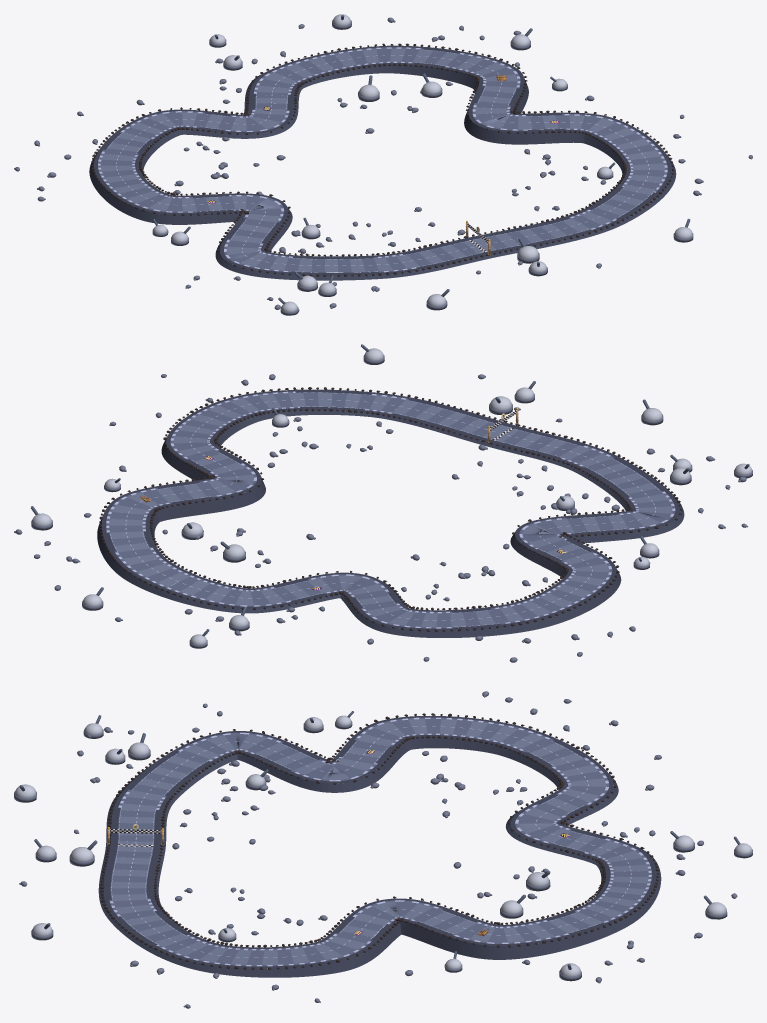
The model's file is carreras_observatorio.glb.
3 renders of one model, top to bottom at view 1: azimuth 30°, elevation 25°; view 2: azimuth 150°, elevation 25°; view 3: azimuth 270°, elevation 25°, orthographic. The views are drawn at different scales.
Parts seen in each view (by area): view 1: observatorio Tela | camino observatorio -1 0, observatorio Tela | camino claro observatorio 0 -1, observatorio Tela | camino claro observatorio -1 0, observatorio Tela | camino observatorio 0 0, observatorio Tela | camino claro observatorio 0 0, observatorio Tela | camino observatorio 0 -1, observatorio Tela | camino claro observatorio -1 -1, observatorio Tela | camino observatorio -1 -1, observatorio Tela | talud observatorio -1 -1, observatorio Tela | talud observatorio 0 -1, observatorio Tela | talud observatorio 0 0, observatorio Tela | orilla observatorio -1 -1 (+21 smaller); view 2: observatorio Tela | camino observatorio 0 0, observatorio Tela | camino observatorio -1 0, observatorio Tela | camino claro observatorio 0 0, observatorio Tela | camino claro observatorio -1 0, observatorio Tela | talud observatorio -1 0, observatorio Tela | camino claro observatorio 0 -1, observatorio Tela | talud observatorio 0 0, observatorio Tela | camino observatorio 0 -1, observatorio Tela | camino claro observatorio -1 -1, observatorio Tela | camino observatorio -1 -1, observatorio Tela | orilla observatorio -1 -1, observatorio Tela | orilla observatorio 0 0 (+21 smaller); view 3: observatorio Tela | talud observatorio 0 0, observatorio Tela | camino observatorio -1 0, observatorio Tela | camino claro observatorio -1 0, observatorio Tela | camino claro observatorio 0 -1, observatorio Tela | camino observatorio 0 -1, observatorio Tela | camino observatorio 0 0, observatorio Tela | camino observatorio -1 -1, observatorio Tela | camino claro observatorio 0 0, observatorio Tela | camino claro observatorio -1 -1, observatorio Tela | talud observatorio 0 -1, observatorio Tela | talud observatorio -1 0, observatorio Tela | orilla observatorio 0 -1 (+24 smaller).
Boxes of the visible parts, bbox=[...] form: observatorio Tela | camino observatorio -1 0: bbox=[100, 95, 288, 211]; observatorio Tela | camino claro observatorio 0 -1: bbox=[472, 115, 664, 251]; observatorio Tela | camino claro observatorio -1 0: bbox=[101, 98, 287, 211]; observatorio Tela | camino observatorio 0 0: bbox=[256, 48, 539, 129]; observatorio Tela | camino claro observatorio 0 0: bbox=[257, 48, 532, 129]; observatorio Tela | camino observatorio 0 -1: bbox=[485, 115, 664, 249]; observatorio Tela | camino claro observatorio -1 -1: bbox=[211, 196, 483, 272]; observatorio Tela | camino observatorio -1 -1: bbox=[218, 196, 477, 272]; observatorio Tela | talud observatorio -1 -1: bbox=[164, 207, 491, 280]; observatorio Tela | talud observatorio 0 -1: bbox=[490, 131, 676, 257]; observatorio Tela | talud observatorio 0 0: bbox=[251, 64, 528, 143]; observatorio Tela | orilla observatorio -1 -1: bbox=[171, 194, 487, 275]; observatorio Tela | camino observatorio 0 0: bbox=[109, 460, 291, 605]; observatorio Tela | camino observatorio -1 0: bbox=[277, 547, 608, 627]; observatorio Tela | camino claro observatorio 0 0: bbox=[109, 462, 284, 605]; observatorio Tela | camino claro observatorio -1 0: bbox=[283, 545, 609, 627]; observatorio Tela | talud observatorio -1 0: bbox=[265, 538, 621, 637]; observatorio Tela | camino claro observatorio 0 -1: bbox=[173, 392, 510, 465]; observatorio Tela | talud observatorio 0 0: bbox=[97, 452, 265, 613]; observatorio Tela | camino observatorio 0 -1: bbox=[173, 392, 500, 468]; observatorio Tela | camino claro observatorio -1 -1: bbox=[495, 428, 672, 554]; observatorio Tela | camino observatorio -1 -1: bbox=[502, 430, 671, 552]; observatorio Tela | orilla observatorio -1 -1: bbox=[491, 425, 679, 560]; observatorio Tela | orilla observatorio 0 0: bbox=[101, 454, 304, 608]; observatorio Tela | talud observatorio 0 0: bbox=[364, 845, 661, 962]; observatorio Tela | camino observatorio -1 0: bbox=[351, 719, 605, 851]; observatorio Tela | camino claro observatorio -1 0: bbox=[349, 719, 605, 849]; observatorio Tela | camino claro observatorio 0 -1: bbox=[110, 846, 378, 964]; observatorio Tela | camino observatorio 0 -1: bbox=[110, 851, 381, 964]; observatorio Tela | camino observatorio 0 0: bbox=[350, 839, 648, 942]; observatorio Tela | camino observatorio -1 -1: bbox=[118, 734, 379, 841]; observatorio Tela | camino claro observatorio 0 0: bbox=[353, 841, 648, 942]; observatorio Tela | camino claro observatorio -1 -1: bbox=[118, 734, 381, 844]; observatorio Tela | talud observatorio 0 -1: bbox=[98, 846, 366, 977]; observatorio Tela | talud observatorio -1 0: bbox=[363, 737, 618, 848]; observatorio Tela | orilla observatorio 0 -1: bbox=[103, 845, 367, 968].
Size of what is drawn, in the model's own units: 311 by 11.98 by 308.
